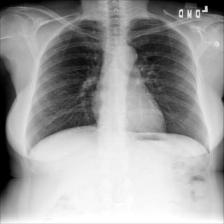normal: (20, 12, 214, 156)
